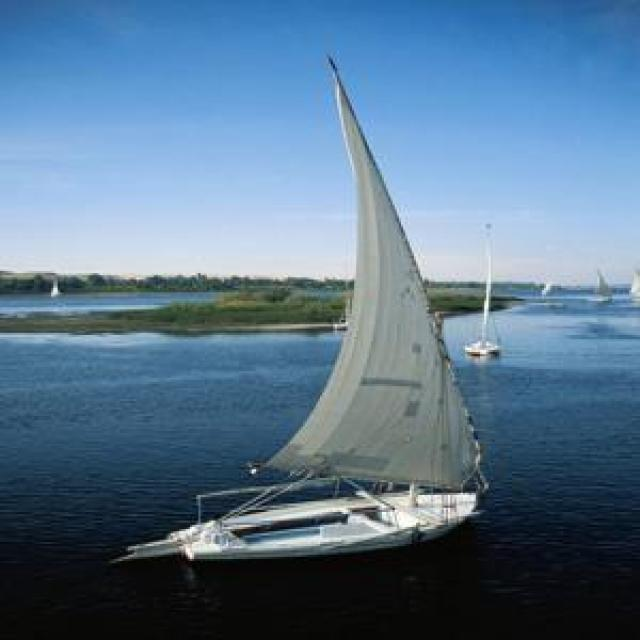sailboat: (140, 41, 480, 563), (466, 220, 503, 360), (586, 259, 613, 306), (43, 273, 68, 304), (626, 263, 640, 308)
